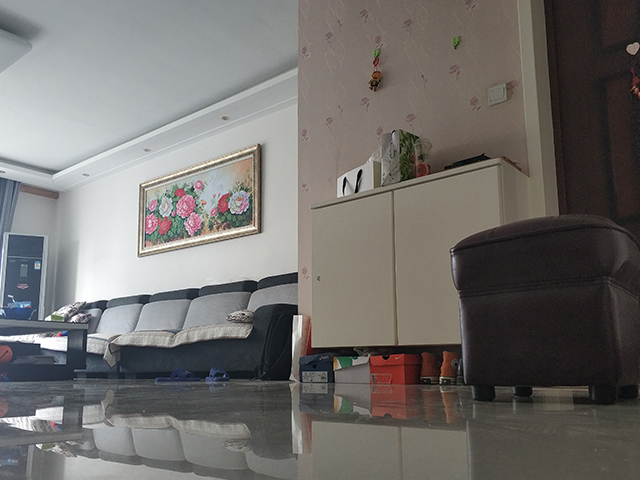cabinet: (309, 160, 468, 343)
slippers: (153, 366, 229, 384)
sofa: (91, 275, 299, 383)
stool: (447, 211, 640, 409)
table: (1, 317, 93, 381)
